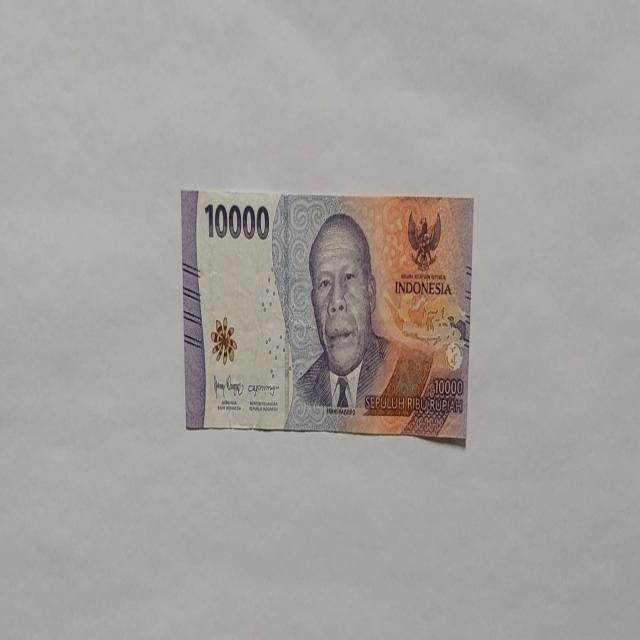sepuluh ribu rupiah: (181, 188, 474, 444), (280, 210, 434, 433)
